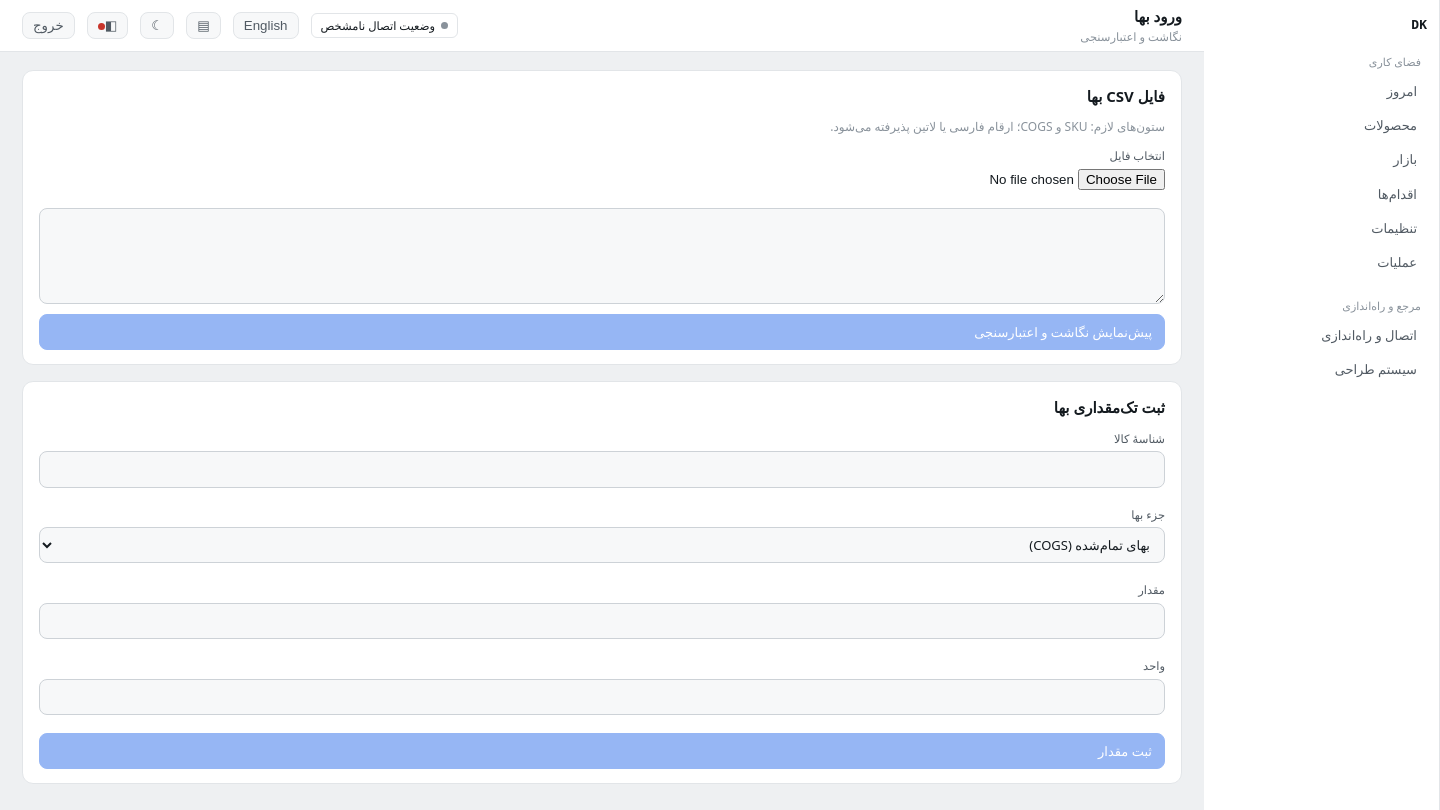
Test: Cost import — preview before commit (CST-001) › surfaces a single-value entry error while preserving the entered value (#82)
Expected: the text box with test id "cost-csv" is shown, [39,208,1165,304]
Type "8900000" into the field with test id "single-value". click: {"x": 602, "y": 621}
box: [39,603,1165,639]
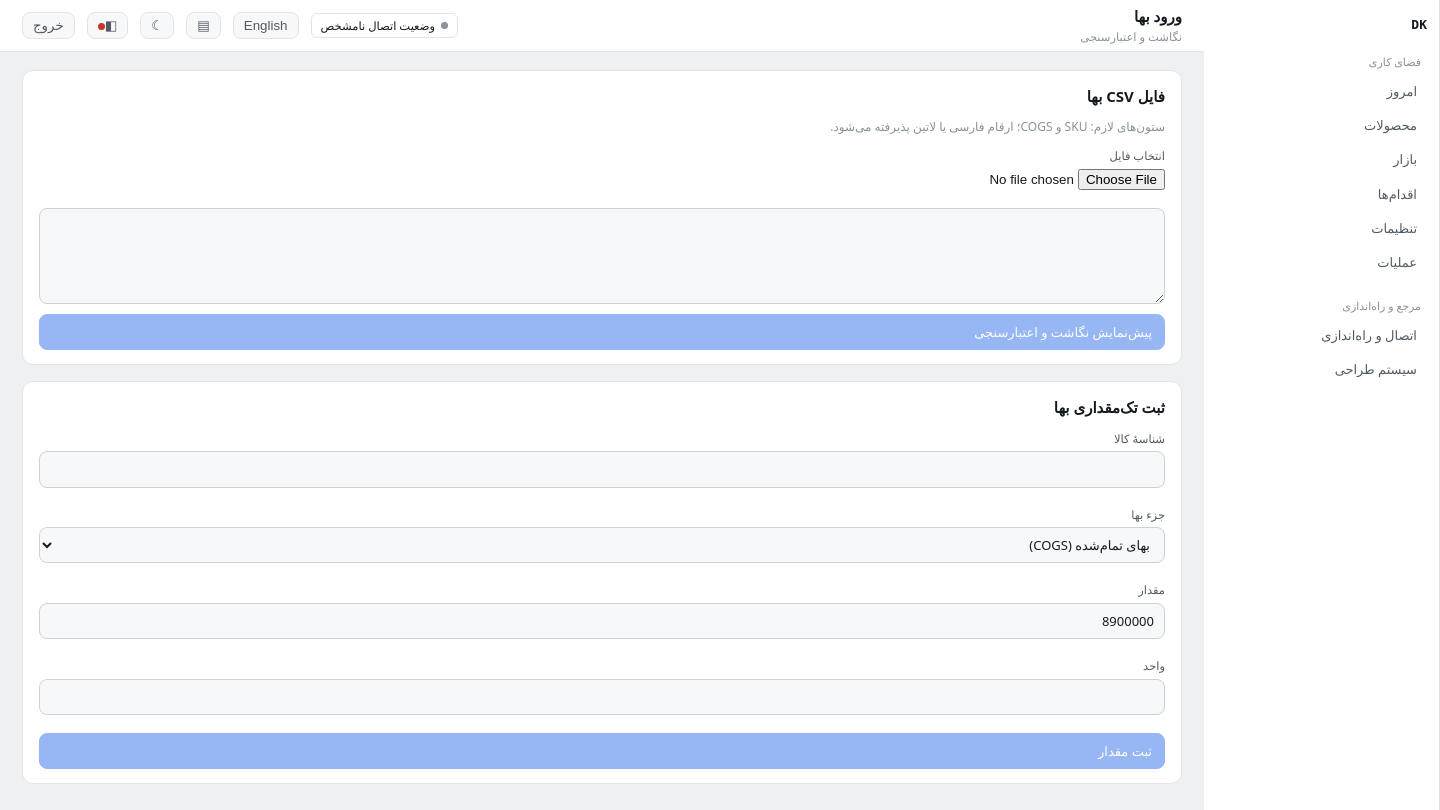
Type "v-1" into the field labelled "شناسهٔ کالا". click: {"x": 602, "y": 469}
box: [39,451,1165,488]
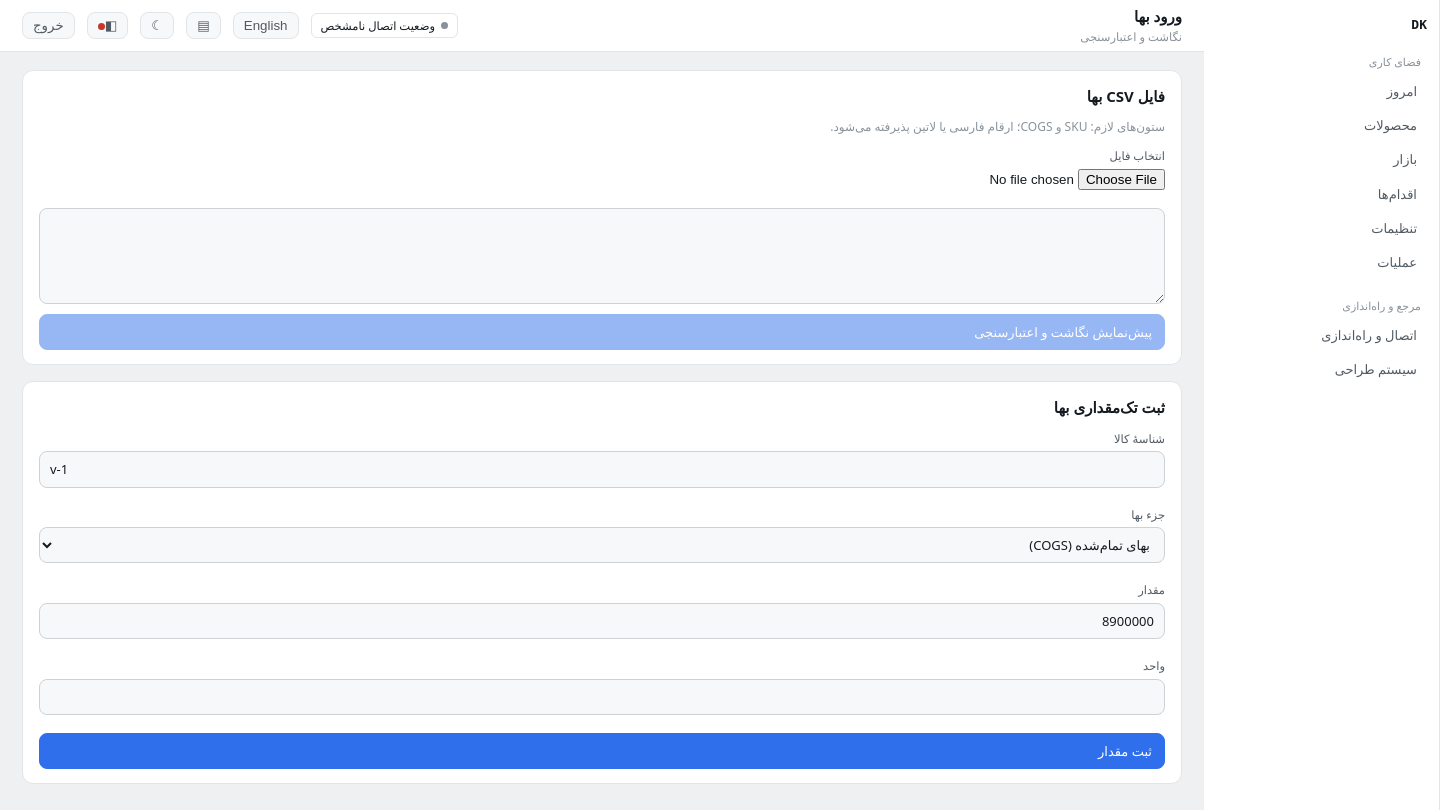
Click the button with test id "single-submit". click: {"x": 1125, "y": 751}
box: [39,733,1165,769]
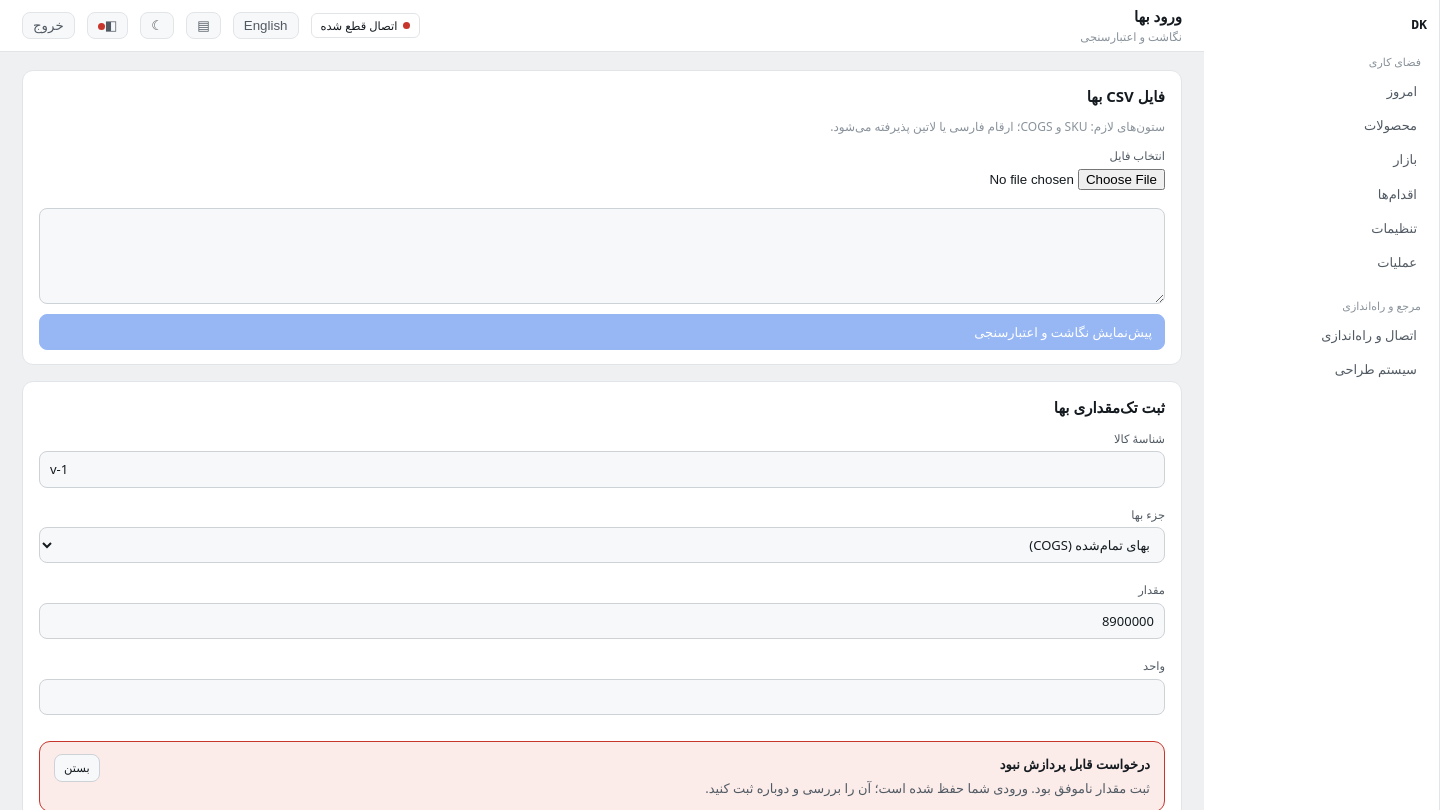
Expected: the element with test id "single-error" is shown, [39,741,1165,809]
Expected: the text "ثبت مقدار ناموفق بود. ورودی شما حفظ شده است؛ آن را بررسی و دوباره ثبت کنید." is shown, [705,779,1150,797]
